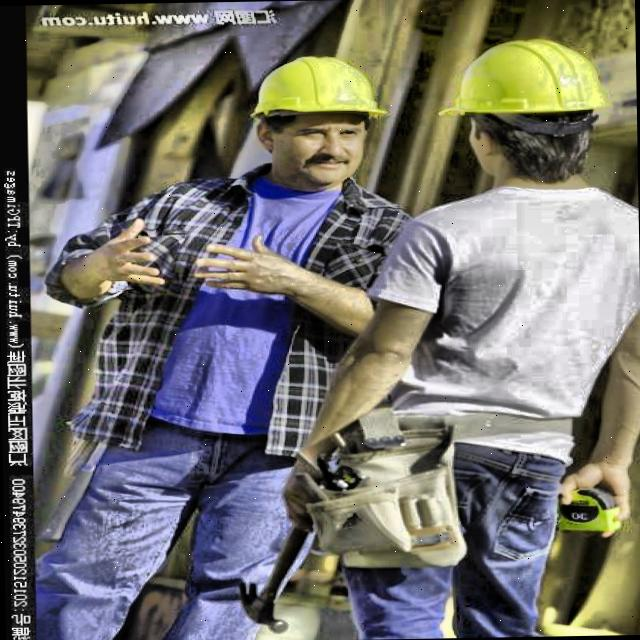helmet: (420, 21, 632, 192), (233, 37, 406, 193)
